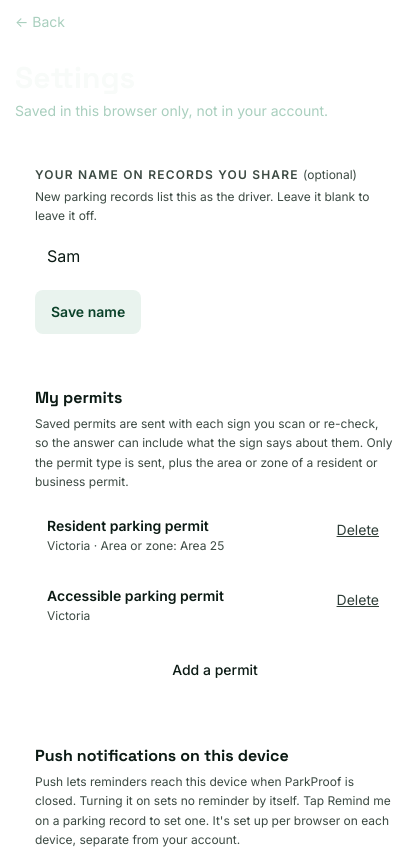
Test: My permits › deletes a permit
The width and height of the screenshot is (412, 854).
What coordinates should you click on to do the following:
click the button with aria-label "Delete Accessible parking permit"
I would click on:
 (358, 600)
Its box is [329,578,387,622].
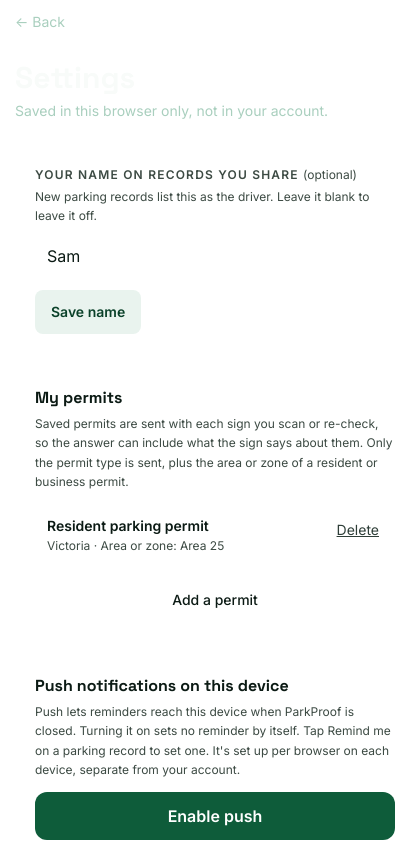
Now the number of list items is 1, box [35,504,395,566]
